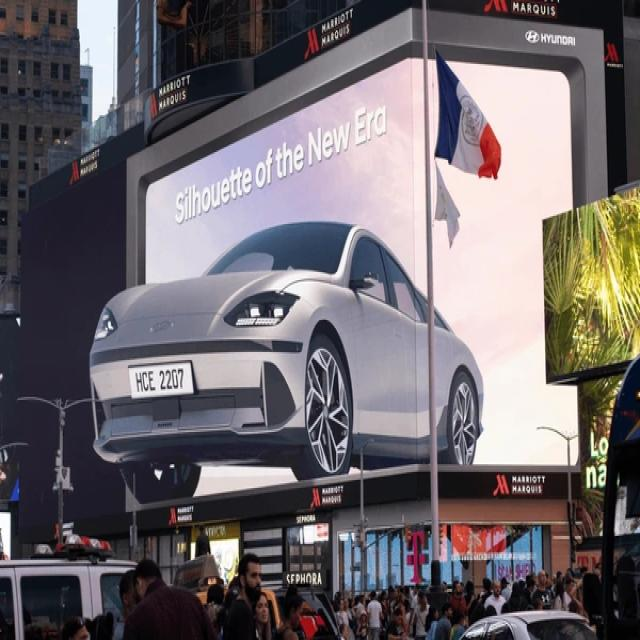hyundai: (149, 319, 176, 339)
